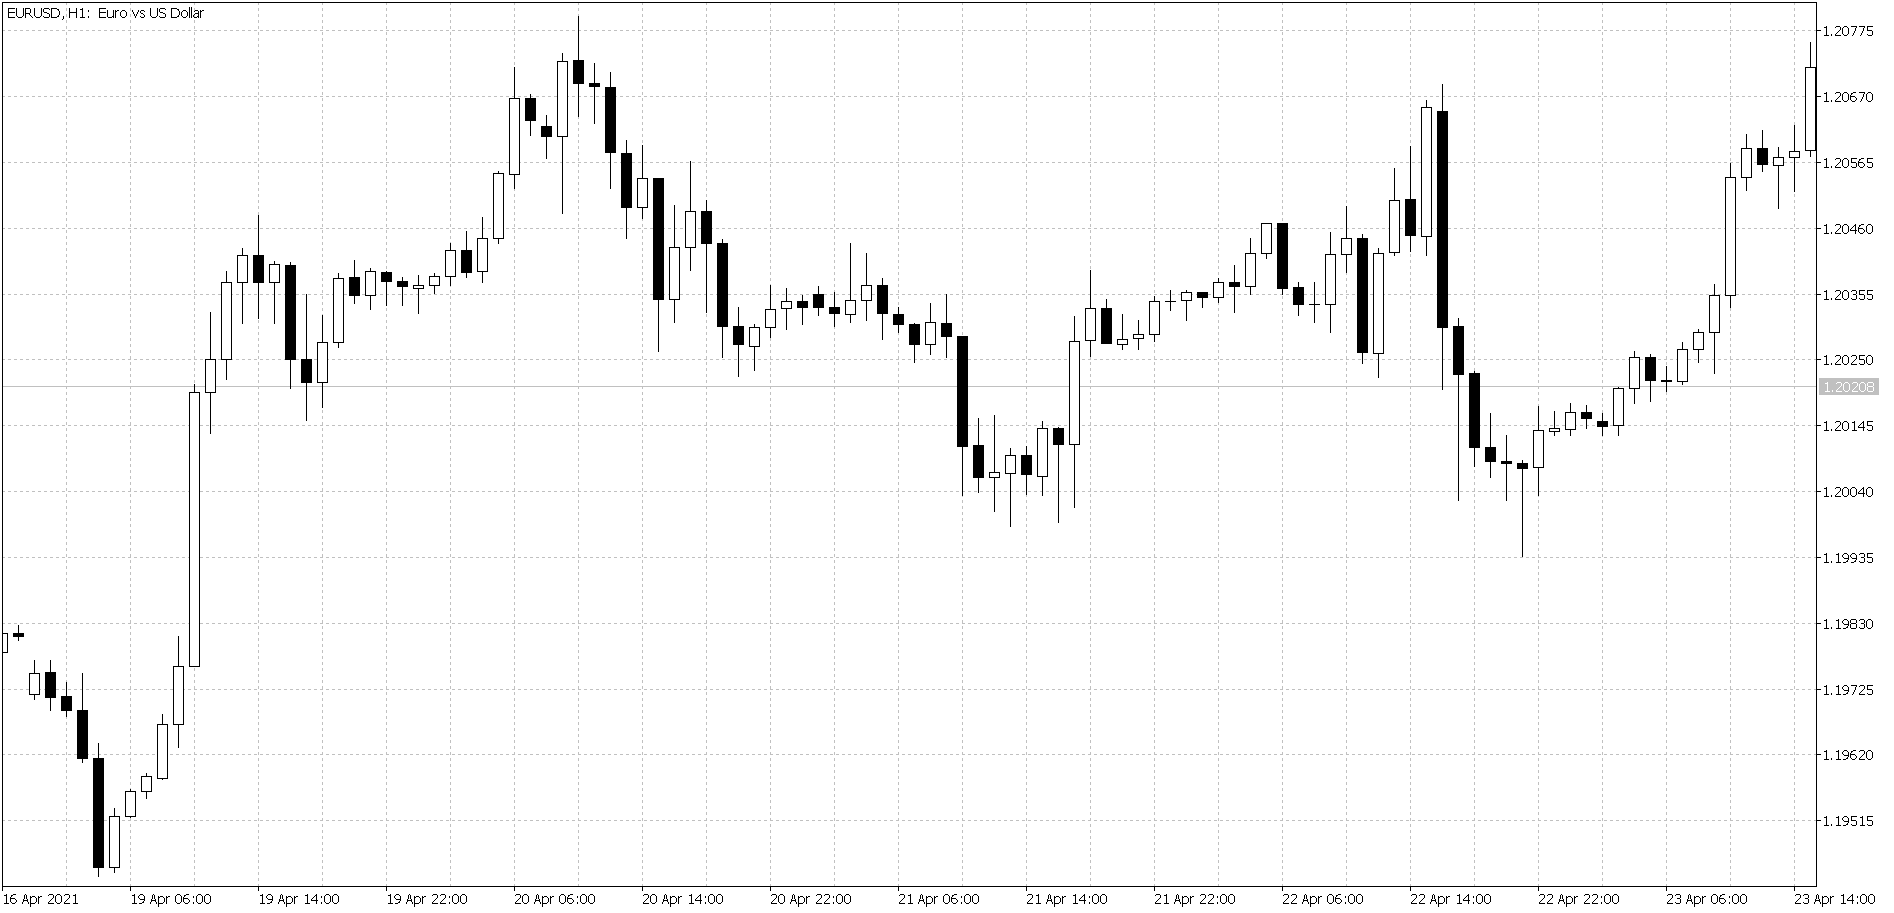3whitesoldiers: (106, 746, 152, 870)
morningDojiStar: (1292, 226, 1337, 348)
